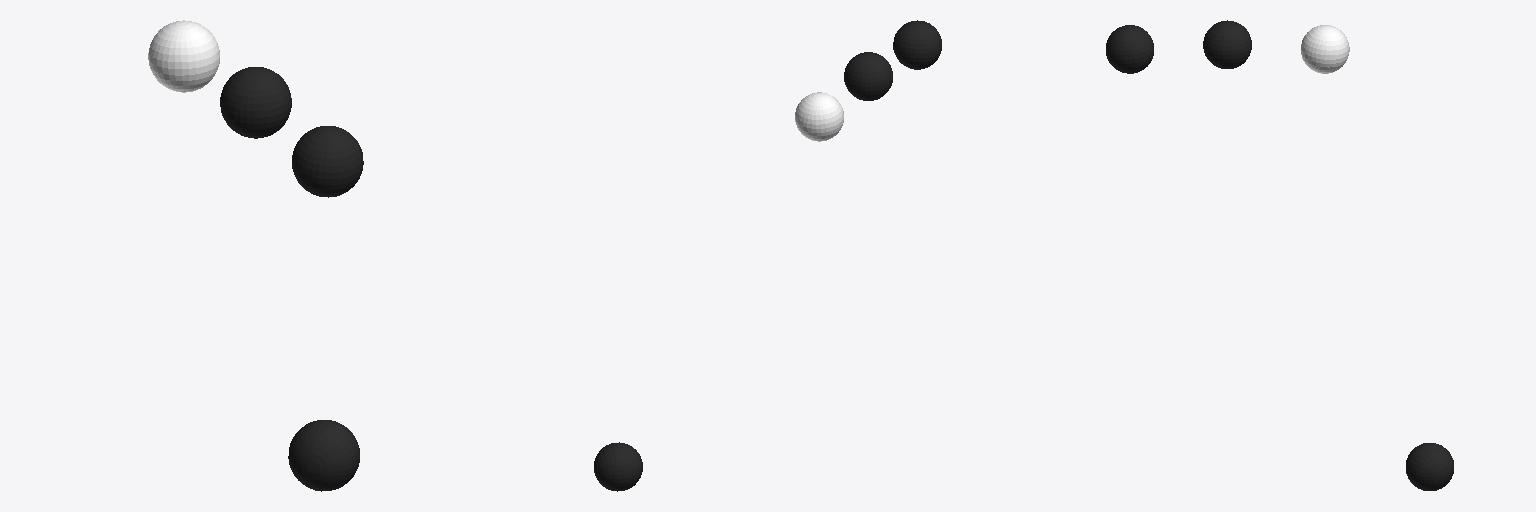
The robot description file, URDF, robot "Allegrohand":
<?xml version='1.0'?>
<robot name="Allegrohand">

  <link name="base_link">
        <inertial>
            <origin xyz="0.0 0.0 0.0475" rpy="0 0 0" />
            <mass value="0.4154" />
            <inertia ixx="1e-4" iyy="1e-4" izz="1e-4" ixy="0" ixz="0" iyz="0" />
        </inertial>
        <visual>
            <origin xyz="0.0 0.0 0.0" rpy="0 0 0" />
            <geometry>
                <mesh filename="../../../Model/meshes/visual/base_link.obj" scale="1 1 1" />
            </geometry>
            <material name="material_red">
                <color rgba="1.0 0.1 0.1 1.0" />
            </material>
        </visual>
    </link>


    <link name="link_0.0">
        <inertial>
            <mass value="0.0119" />
            <origin xyz="0 0 0" rpy="0 0 0"/>
            <inertia ixx="1.01666658333e-06" ixy="0.0" ixz="0.0" iyy="6.47677333333e-07" iyz="0.0" izz=" 1.01666658333e-06" />
        </inertial>
        <visual>
            <geometry>
                <mesh filename="../../../Model/meshes/visual/link_0.0.obj"/>
            </geometry>
        </visual>
        <collision>
            <!--<geometry>
                <box size="0.0196 0.0275 0.0164"/>
            </geometry>
            <origin rpy="0 0 0" xyz="0 0 0.0082"/>-->
        </collision>
    </link>  

    <joint name="joint_0.0" type="revolute">
        <axis xyz="0 0 1"/>
        <limit effort="0" lower="-0.47" upper="0.47" velocity="0"/>
        <parent link="base_link"/>
        <child link="link_0.0"/>
        <origin rpy="-0.08726646255 0 0" xyz="0 0.0436512 -0.0022438"/>
    </joint>

    <link name="link_1.0">
        <inertial>
            <mass value="0.065" />
            <origin xyz="0 0 0" rpy="0 0 0"/>
            <inertia ixx="7.95654166667e-05" ixy="1.7199e-05" ixz="8.75875e-06" iyy="2.47088833333e-05" iyz="2.413125e-05" izz="7.95654166667e-05" />
        </inertial>
        <visual>
            <geometry>
                <mesh filename="../../../Model/meshes/visual/link_1.0.obj"/>
            </geometry>
            <material name="black"/>
        </visual>
        <collision>
            <!--<origin xyz="0 0 0" rpy="0 0 0" />
            <geometry>
                <mesh filename="link_1.0.obj" scale="1 1 1" />
            </geometry>-->
        </collision>
    </link>

    <joint name="joint_1.0" type="revolute">
        <limit effort="0" lower="-0.196" upper="1.61" velocity="0"/>
        <axis xyz="0 1 0"/>
        <parent link="link_0.0"/>
        <child link="link_1.0"/>
        <origin xyz="0 0 0.0166"/>
    </joint>
    
    <link name="link_2.0">
        <inertial>
            <mass value="0.0355" />
            <origin xyz="0 0 0" rpy="0 0 0"/>
            <inertia ixx="2.63979183333e-05" ixy="6.67968e-06" ixz="4.783625e-06"
                       iyy="1.34948516667e-05" iyz="9.372e-06"
                       izz="2.63979183333e-05" />
        </inertial>
        <visual>
            <geometry>
                <mesh filename="../../../Model/meshes/visual/link_2.0.obj"/>
            </geometry>
            <material name="black"/>
        </visual>
        <collision>
            <!--<origin xyz="0 0 0" rpy="0 0 0" />
            <geometry>
                <mesh filename="link_2.0.obj" scale="1 1 1" />
            </geometry>-->
        </collision>
    </link>

    <joint name="joint_2.0" type="revolute">
        <axis xyz="0 1 0"/>
        <limit effort="0" lower="-0.174" upper="1.709" velocity="0"/>
        <parent link="link_1.0"/>
        <child link="link_2.0"/>
        <origin xyz="0 0 0.054"/>
    </joint>    

    <link name="link_3.0">
        <inertial>
            <mass value="0.0096" />
            <origin xyz="0 0 0" rpy="0 0 0"/>
            <inertia ixx="4.701248e-06" ixy="1.255968e-06" ixz="1.2936e-06"
                       iyy="3.649312e-06" iyz="1.7622e-06"
                       izz="4.701248e-06" />
        </inertial>
        <visual>
            <geometry>
                <mesh filename="../../../Model/meshes/visual/link_3.0.obj"/>
            </geometry>
            <material name="black"/>
        </visual>
         <collision>        
        </collision> 
    </link>

    <joint name="joint_3.0" type="revolute">
        <axis xyz="0 1 0"/>
        <limit effort="0" lower="-0.227" upper="1.618" velocity="0"/>
        <parent link="link_2.0"/>
        <child link="link_3.0"/>
        <origin xyz="0 0 0.0384"/>
    </joint>


    <link name="link_3.0_tip">
        <inertial>
            <mass value="0.0096" />
            <origin xyz="0 0 0" rpy="0 0 0"/>
            <inertia ixx="4.701248e-06" ixy="1.255968e-06" ixz="1.2936e-06"
                       iyy="3.649312e-06" iyz="1.7622e-06"
                       izz="4.701248e-06" />
        </inertial>
        <visual>
            <origin xyz="0.0 0.0 0.0" rpy="0 0 0" />
            <geometry>
               <!--  <mesh filename="../../../Model/meshes/visual/link_3.0_tip.obj"/> -->
               <sphere radius="0.014" />
            </geometry>
            <material name="white">
              <color rgba="1.0 1.0 1.0 1.0" />
            </material>
        </visual>
        <collision>
            <origin xyz="0 0 0.0" rpy="0 0 0" />
            <geometry>
                <!--<mesh filename="link_3.0_tip.obj" scale="1 1 1" />-->
                <sphere radius="0.014" />
            </geometry>            
        </collision>
    </link>

    <joint name="joint_3.0_tip" type="fixed">
        <parent link="link_3.0"/>
        <child link="link_3.0_tip"/>
        <origin rpy="0 0 0" xyz="0 0 0.0297"/> <!--The tip joint is in the center of the sphere, which is 0.0157+0.014 m from the joint_3.0-->
    </joint> 

    <link name="link_4.0">
        <inertial>
            <mass value="0.0119" />
            <origin xyz="0 0 0" rpy="0 0 0"/>
            <inertia ixx="1.01666658333e-06" ixy="0.0" ixz="0.0" iyy="6.47677333333e-07" iyz="0.0" izz=" 1.01666658333e-06" />
        </inertial>
        <visual>
            <geometry>
                <mesh filename="../../../Model/meshes/visual/link_0.0.obj"/>
            </geometry>
            <material name="black"/>
        </visual>
        <collision>
        </collision>
    </link> 

    <joint name="joint_4.0" type="revolute">
        <axis xyz="0 0 1"/>
        <limit effort="0" lower="-0.47" upper="0.47" velocity="0"/>
        <parent link="base_link"/>
        <child link="link_4.0"/>
        <origin xyz="0.0 0.0 0.0" rpy="0.0 0.0 0.0"/>
    </joint>

    <link name="link_5.0">
        <inertial>
            <mass value="0.065" />
            <origin xyz="0 0 0" rpy="0 0 0"/>
            <inertia ixx="7.95654166667e-05" ixy="1.7199e-05" ixz="8.75875e-06" iyy="2.47088833333e-05" iyz="2.413125e-05" izz="7.95654166667e-05" />
        </inertial>
        <visual>
            <geometry>
                <mesh filename="../../../Model/meshes/visual/link_1.0.obj"/>
            </geometry>
            <material name="black"/>
        </visual>
        <collision>
           <!--  <origin xyz="0 0 0.0" rpy="0 0 0" />
            <geometry>
                <mesh filename="../../../Model/meshes/collision/link_1.0.obj" scale="1 1 1" />
            </geometry> -->
        </collision>
    </link>
    
    <joint name="joint_5.0" type="revolute">
        <limit effort="0" lower="-0.196" upper="1.61" velocity="0"/>
        <axis xyz="0 1 0"/>
        <parent link="link_4.0"/>
        <child link="link_5.0"/>
        <origin xyz="0 0 0.0166"/>
    </joint>
    
    <link name="link_6.0">
        <inertial>
            <mass value="0.0355" />
            <origin xyz="0 0 0" rpy="0 0 0"/>
            <inertia ixx="2.63979183333e-05" ixy="6.67968e-06" ixz="4.783625e-06"
                       iyy="1.34948516667e-05" iyz="9.372e-06"
                       izz="2.63979183333e-05" />
        </inertial>
    <visual>
        <geometry>
            <mesh filename="../../../Model/meshes/visual/link_2.0.obj"/>
        </geometry>
        <material name="black"/>
    </visual>
    <collision>
      <!--  <origin xyz="0 0 0.0" rpy="0 0 0" />
            <geometry>
                <mesh filename="../../../Model/meshes/collision/link_2.0.obj" scale="1 1 1" />
            </geometry> -->
    </collision>
    </link>
    
    <joint name="joint_6.0" type="revolute">
        <axis xyz="0 1 0"/>
        <limit effort="0" lower="-0.174" upper="1.709" velocity="0"/>
        <parent link="link_5.0"/>
        <child link="link_6.0"/>
        <origin xyz="0 0 0.054"/>
    </joint>




    <link name="link_7.0">
        <inertial>
            <mass value="0.0096" />
            <origin xyz="0 0 0" rpy="0 0 0"/>
            <inertia ixx="4.701248e-06" ixy="1.255968e-06" ixz="1.2936e-06"
                       iyy="3.649312e-06" iyz="1.7622e-06"
                       izz="4.701248e-06" />
        </inertial>
        <visual>
            <geometry>
                <mesh filename="../../../Model/meshes/visual/link_3.0.obj"/>
            </geometry>
            <material name="black"/>
        </visual>
         <collision>        
        </collision> 
    </link>

    <joint name="joint_7.0" type="revolute">
        <axis xyz="0 1 0"/>
        <limit effort="0" lower="-0.227" upper="1.618" velocity="0"/>
        <parent link="link_6.0"/>
        <child link="link_7.0"/>
        <origin xyz="0 0 0.0384"/>
    </joint>


    <link name="link_7.0_tip">
        <inertial>
            <mass value="0.0096" />
            <origin xyz="0 0 0" rpy="0 0 0"/>
            <inertia ixx="4.701248e-06" ixy="1.255968e-06" ixz="1.2936e-06"
                       iyy="3.649312e-06" iyz="1.7622e-06"
                       izz="4.701248e-06" />
        </inertial>
        <visual>
            <origin xyz="0.0 0.0 0.0" rpy="0 0 0" />
            <geometry>
                <!-- <mesh filename="../../../Model/meshes/visual/link_3.0_tip.obj"/> -->
                <sphere radius="0.014" />
            </geometry>
            <material name="black"/>
        </visual>
        <collision>
            <origin xyz="0 0 0.0" rpy="0 0 0" />
            <geometry>
                <!--<mesh filename="link_3.0_tip.obj" scale="1 1 1" />-->
                <sphere radius="0.014" />
            </geometry>            
        </collision>
    </link>

    <joint name="joint_7.0_tip" type="fixed">
        <parent link="link_7.0"/>
        <child link="link_7.0_tip"/>
        <origin rpy="0 0 0" xyz="0 0 0.0297"/> <!--The tip joint is in the center of the sphere, which is 0.0157+0.014 m from the joint_3.0-->
    </joint> 


    <link name="link_8.0">
        <inertial>
            <mass value="0.0119" />
            <origin xyz="0 0 0" rpy="0 0 0"/>
            <inertia ixx="1.01666658333e-06" ixy="0.0" ixz="0.0" iyy="6.47677333333e-07" iyz="0.0" izz=" 1.01666658333e-06" />
        </inertial>
        <visual>
            <geometry>
                <mesh filename="../../../Model/meshes/visual/link_0.0.obj"/>
            </geometry>
            <material name="black"/>
        </visual>
        <collision>
           <!-- <origin xyz="0 0 0.0" rpy="0 0 0" />
            <geometry>
                <mesh filename="../../../Model/meshes/collision/link_0.0.obj" scale="1 1 1" />
            </geometry> -->
        </collision>
    </link>
    
    <joint name="joint_8.0" type="revolute">
        <axis xyz="0 0 1"/>
        <limit effort="0" lower="-0.47" upper="0.47" velocity="0"/>
        <parent link="base_link"/>
        <child link="link_8.0"/>
        <origin rpy="0.08726646255 0 0" xyz="0 -0.0436512 -0.0022438"/>
    </joint>
    
    <link name="link_9.0">
        <inertial>
            <mass value="0.065" />
            <origin xyz="0 0 0" rpy="0 0 0"/>
            <inertia ixx="7.95654166667e-05" ixy="1.7199e-05" ixz="8.75875e-06" iyy="2.47088833333e-05" iyz="2.413125e-05" izz="7.95654166667e-05" />
        </inertial>
        <visual>
            <geometry>
                <mesh filename="../../../Model/meshes/visual/link_1.0.obj"/>
            </geometry>
            <material name="black"/>
        </visual>
        <collision>
           <!-- <origin xyz="0 0 0.0" rpy="0 0 0" />
            <geometry>
                <mesh filename="../../../Model/meshes/collision/link_1.0.obj" scale="1 1 1" />
            </geometry> -->
        </collision>
    </link>
    
    <joint name="joint_9.0" type="revolute">
        <limit effort="0" lower="-0.196" upper="1.61" velocity="0"/>
        <axis xyz="0 1 0"/>
        <parent link="link_8.0"/>
        <child link="link_9.0"/>
        <origin xyz="0 0 0.0166"/>
    </joint>
    
    <link name="link_10.0">
        <inertial>
            <mass value="0.0355" />
            <origin xyz="0 0 0" rpy="0 0 0"/>
            <inertia ixx="2.63979183333e-05" ixy="6.67968e-06" ixz="4.783625e-06"
                       iyy="1.34948516667e-05" iyz="9.372e-06"
                       izz="2.63979183333e-05" />
        </inertial>
        <visual>
            <geometry>
                <mesh filename="../../../Model/meshes/visual/link_2.0.obj"/>
            </geometry>
            <material name="black"/>
        </visual>
        <collision>
            <!--<origin xyz="0 0 0.0" rpy="0 0 0" />
            <geometry>
                <mesh filename="../../../Model/meshes/collision/link_2.0.obj" scale="1 1 1" />
            </geometry> -->
        </collision>
    </link>
    
    <joint name="joint_10.0" type="revolute">
        <axis xyz="0 1 0"/>
        <limit effort="0" lower="-0.174" upper="1.709" velocity="0"/>
        <parent link="link_9.0"/>
        <child link="link_10.0"/>
        <origin xyz="0 0 0.054"/>
    </joint>
    
   <link name="link_11.0">
        <inertial>
            <mass value="0.0096" />
            <origin xyz="0 0 0" rpy="0 0 0"/>
            <inertia ixx="4.701248e-06" ixy="1.255968e-06" ixz="1.2936e-06"
                       iyy="3.649312e-06" iyz="1.7622e-06"
                       izz="4.701248e-06" />
        </inertial>
        <visual>
            <geometry>
                <mesh filename="../../../Model/meshes/visual/link_3.0.obj"/>
            </geometry>
            <material name="black"/>
        </visual>
         <collision>        
        </collision> 
    </link>

    <joint name="joint_11.0" type="revolute">
        <axis xyz="0 1 0"/>
        <limit effort="0" lower="-0.227" upper="1.618" velocity="0"/>
        <parent link="link_10.0"/>
        <child link="link_11.0"/>
        <origin xyz="0 0 0.0384"/>
    </joint>


    <link name="link_11.0_tip">
        <inertial>
            <mass value="0.0096" />
            <origin xyz="0 0 0" rpy="0 0 0"/>
            <inertia ixx="4.701248e-06" ixy="1.255968e-06" ixz="1.2936e-06"
                       iyy="3.649312e-06" iyz="1.7622e-06"
                       izz="4.701248e-06" />
        </inertial>
        <visual>
            <origin xyz="0.0 0.0 0.0" rpy="0 0 0" />
            <geometry>
                <!-- <mesh filename="../../../Model/meshes/visual/link_3.0_tip.obj"/> -->
                <sphere radius="0.014" />
            </geometry>
            <material name="black"/>
        </visual>
        <collision>
            <origin xyz="0 0 0.0" rpy="0 0 0" />
            <geometry>
                <!--<mesh filename="link_3.0_tip.obj" scale="1 1 1" />-->
                <sphere radius="0.014" />
            </geometry>            
        </collision>
    </link>

    <joint name="joint_11.0_tip" type="fixed">
        <parent link="link_11.0"/>
        <child link="link_11.0_tip"/>
        <origin rpy="0 0 0" xyz="0 0 0.0297"/> <!--The tip joint is in the center of the sphere, which is 0.0157+0.014 m from the joint_3.0-->
    </joint> 
    
     <!-- THUMB -->
    <link name="link_12.0">
        <inertial>
            <origin xyz="0.0 0.0 0.0" rpy="0 0 0" />
            <mass value="0.0176" />
            <inertia ixx="1.89273333333e-5" iyy="1.43008213333e-05" izz="1.89273333333e-05" ixy="7.16716e-06" ixz="5.35568e-06" iyz="6.8068e-06" />
        </inertial>
        <visual>
            <geometry>
                <mesh filename="../../../Model/meshes/visual/link_12.0_right.obj"/>
            </geometry>
            <material name="black">
            <color rgba=".2 .2 .2 1"/>
            </material>
        </visual>
        <collision>
            <!--<origin xyz="0 0 0.0" rpy="0 0 0" />
            <geometry>
                <mesh filename="link_12.0_right.obj" scale="1 1 1" />
            </geometry> -->
        </collision> 
    </link>
    
    <joint name="joint_12.0" type="revolute">
        <axis xyz="-1 0 0"/>
        <limit effort="0" lower="0.263" upper="1.396" velocity="0"/>
        <parent link="base_link"/>
        <child link="link_12.0"/>
        <origin rpy="0 -1.65806278845 -1.5707963259" xyz="-0.0182 0.0193112 -0.046391"/> <!--"-0.0182 0.016958 -0.073288"-->
    </joint>
    
    <link name="link_13.0">
        <inertial>
            <origin xyz="0.0 0.0 0.0" rpy="0 0 0" />
            <mass value="0.0119" />
            <inertia ixx="4.24250866667e-06" iyy="4.52362633333e-06" izz="4.24250866667e-06" ixy="1.032087e-06" ixz="1.603525e-06" iyz="1.44808125e-06" />
        </inertial>
        <visual>
            <geometry>
                <mesh filename="../../../Model/meshes/visual/link_13.0.obj"/>
            </geometry>
            <material name="black">
                <color rgba=".2 .2 .2 1"/>
            </material>
            </visual>
        <collision>
            <!--<origin xyz="0 0 0.0" rpy="0 0 0" />
            <geometry>
                <mesh filename="link_13.0.obj" scale="1 1 1" />
            </geometry> -->
        </collision>
    </link>
    
    <joint name="joint_13.0" type="revolute">
        <axis xyz="0 0 1"/>
        <limit effort="0" lower="-0.105" upper="1.163" velocity="0"/>
        <parent link="link_12.0"/>
        <child link="link_13.0"/>
        <!-- RIGHT -->
        <origin xyz="-0.027 0.005 0.0388"/>
        <!-- LEFT -->
        <!-- <origin xyz="-0.027 -0.005 0.0399"/> -->
    </joint>
    
    <link name="link_14.0">
        <inertial>
            <origin xyz="0.0 0.0 0.0" rpy="0 0 0" />
            <mass value="0.038" />
            <inertia ixx="4.30439933333e-05" iyy="1.44451933333e-05" izz="4.30439933333e-05" ixy="9.57068e-06" ixz="5.1205e-06" iyz="1.342825e-05" />
        </inertial>
        <visual>
            <geometry>
                <mesh filename="../../../Model/meshes/visual/link_14.0.obj"/>
            </geometry>
            <material name="black">
            </material>
        </visual>
        <collision>
            <!--<origin xyz="0 0 0.0" rpy="0 0 0" />
            <geometry>
                <mesh filename="link_14.0.obj" scale="1 1 1" />
            </geometry> -->
        </collision>
    </link>
    
    <joint name="joint_14.0" type="revolute">
        <axis xyz="0 1 0"/>
        <limit effort="0" lower="-0.189" upper="1.644" velocity="0"/>
        <parent link="link_13.0"/>
        <child link="link_14.0"/>
        <origin xyz="0 0 0.0166"/>
    </joint>


    
    <link name="link_15.0">
        <inertial>
            <origin xyz="0.0 0.0 0.0" rpy="0 0 0" />
            <mass value="0.0388" />
            <inertia ixx="3.29223173333e-05" iyy="1.47493026667e-5" izz="3.29223173333e-05" ixy="8.042076e-06" ixz="5.2283e-06" iyz="1.1283525e-5" />
        </inertial>
        <visual>
            <geometry>
                <mesh filename="../../../Model/meshes/visual/link_15.0.obj"/>
            </geometry>
            <material name="black">
            </material>
        </visual>
        <collision>
        </collision>
    </link>

    <joint name="joint_15.0" type="revolute">
        <axis xyz="0 1 0"/>
        <limit effort="0" lower="-0.162" upper="1.719" velocity="0"/>
        <parent link="link_14.0"/>
        <child link="link_15.0"/>
        <origin xyz="0 0 0.0514"/>
    </joint>

    <link name="link_15.0_tip">
        <inertial>
          <mass value="0.0168"/>
          <origin rpy="0 0 0" xyz="0 0 0"/>
          <inertia ixx="9.68e-07" ixy="0" ixz="0" iyy="9.68e-07" iyz="0" izz="9.68e-07"/>
        </inertial>
        <visual>
            <origin xyz="0.0 0.0 0.0" rpy="0 0 0" />
            <geometry>
                <!-- <mesh filename="../../../Model/meshes/visual/link_3.0_tip.obj"/> -->
                <sphere radius="0.014" />
            </geometry>
            <material name="black"/>
        </visual>
        <collision>
            <origin xyz="0 0 0.0" rpy="0 0 0" />
            <geometry>
                <!--<mesh filename="link_15.0.obj" scale="1 1 1" />-->
                <sphere radius="0.014"/>
            </geometry> 
        </collision>
    </link>

    <joint name="joint_15.0_tip" type="fixed">
        <parent link="link_15.0"/>
        <child link="link_15.0_tip"/>
        <origin rpy="0 0 0" xyz="0 0 0.0453"/> <!--31.3+14=45.3-->
    </joint>   



</robot>

--- Render facts (derived) ---
Views: 3 orthographic renders of the robot side by side, from view 1: azimuth 30°, elevation 25°; view 2: azimuth 150°, elevation 25°; view 3: azimuth 270°, elevation 25°.
Model Allegrohand with 21 links and 20 joints (16 revolute, 4 fixed), rooted at base_link, posed joints at zero except 1 at the middle of their limits (joint_12.0 = 0.8295).
Visible links, largest first — view 1: link_7.0_tip, link_3.0_tip, link_11.0_tip, link_15.0_tip; view 2: link_3.0_tip, link_7.0_tip, link_11.0_tip, link_15.0_tip; view 3: link_3.0_tip, link_7.0_tip, link_11.0_tip, link_15.0_tip.
Link boxes in pixels (x1,y1,x2,y2): link_7.0_tip: (220,67,291,138); link_3.0_tip: (148,20,219,92); link_11.0_tip: (292,126,363,197); link_15.0_tip: (288,420,359,491); link_3.0_tip: (795,92,843,141); link_7.0_tip: (844,52,892,100); link_11.0_tip: (893,20,941,69); link_15.0_tip: (594,442,642,491); link_3.0_tip: (1301,25,1349,73); link_7.0_tip: (1203,20,1251,68); link_11.0_tip: (1106,25,1153,73); link_15.0_tip: (1406,443,1453,490).
Size in the robot's own frame: 0.1254 by 0.1992 by 0.2486 metres.
Geometry: only primitive shapes (box / cylinder / sphere) drawn; not drawn: 17 mesh visuals (reference in a form the renderer does not follow).